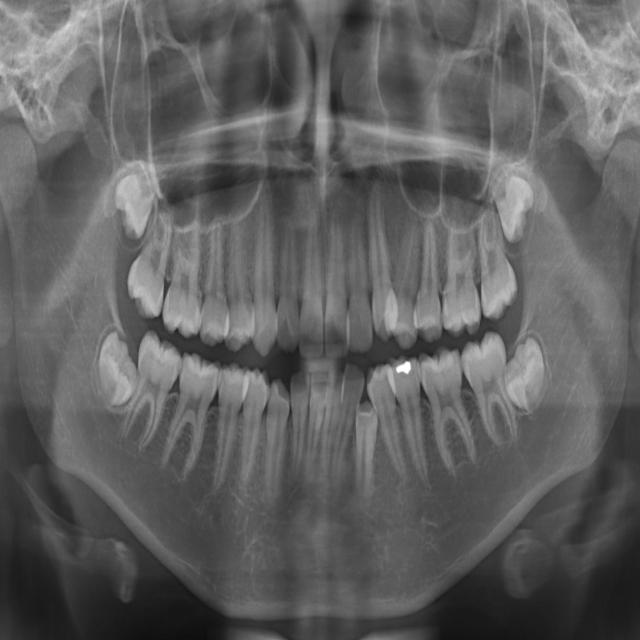AmalgamRestoration: (350, 400, 380, 490), (393, 356, 416, 382)
DentalCaries: (150, 350, 166, 378)
